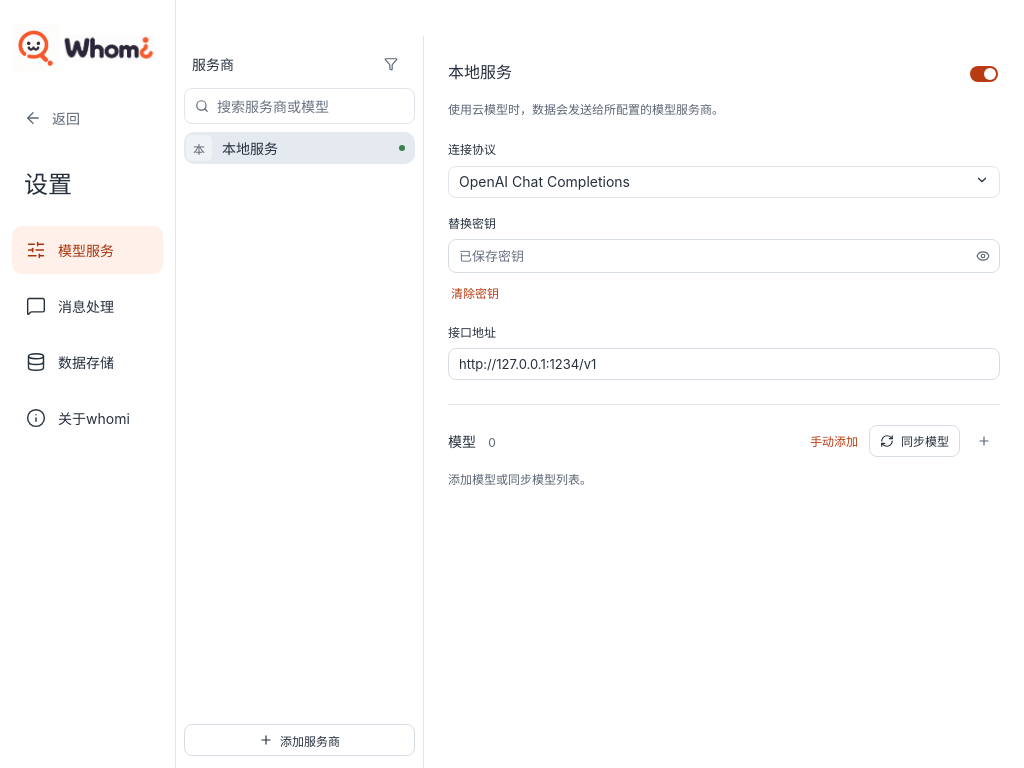
Test: 正式设置 › 已有密钥不填回输入，离开连接配置时自动保存替换密钥
Type "synthetic-replacement" into the password field labelled "替换密钥".
click(708, 256); type("synthetic-replacement")  # box [449,240,967,272]
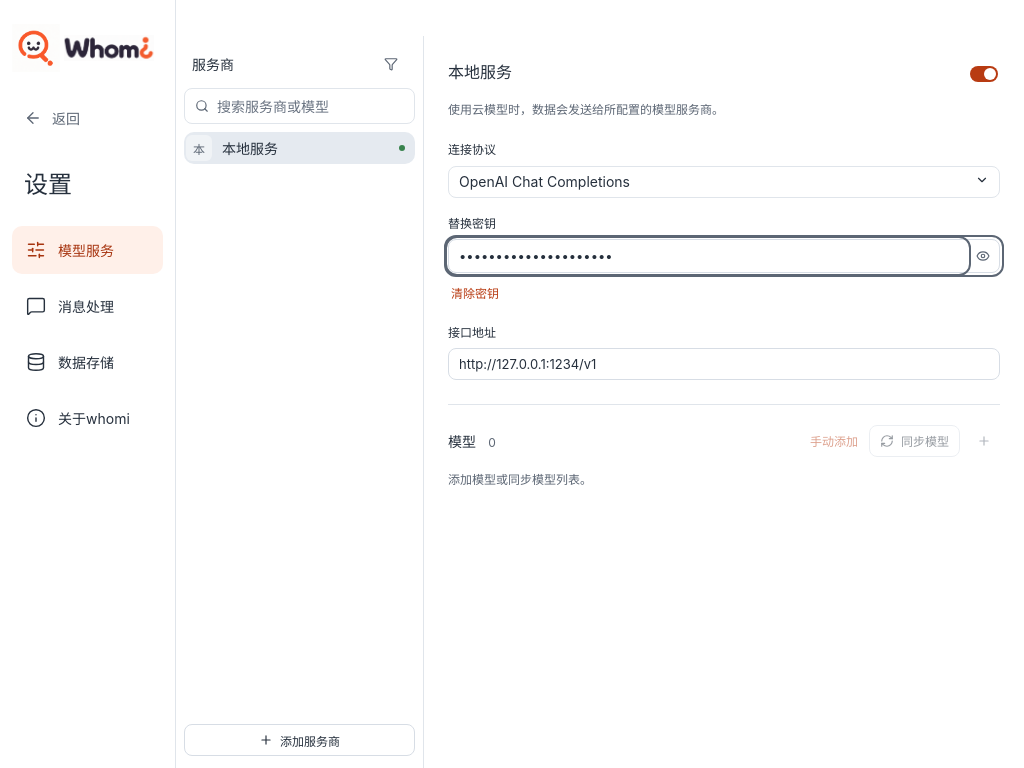
Click the button "消息处理".
click(88, 306)  # box [12,282,163,330]
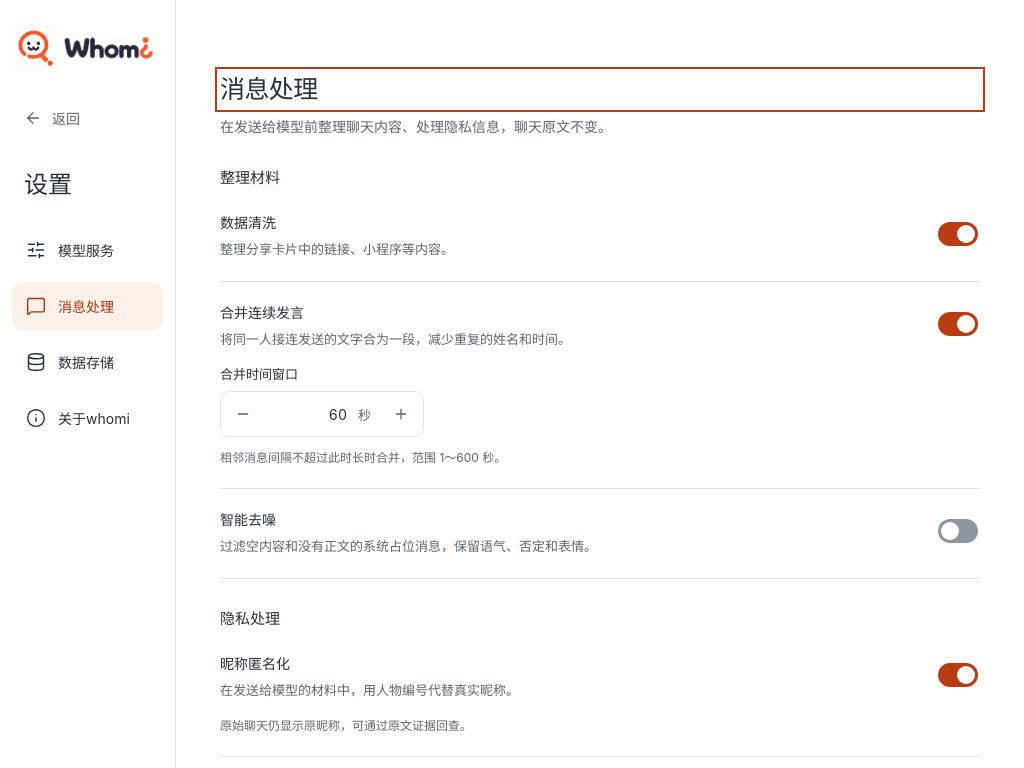
Check: the switch named "数据清洗" is shown, box [936,212,980,256]
